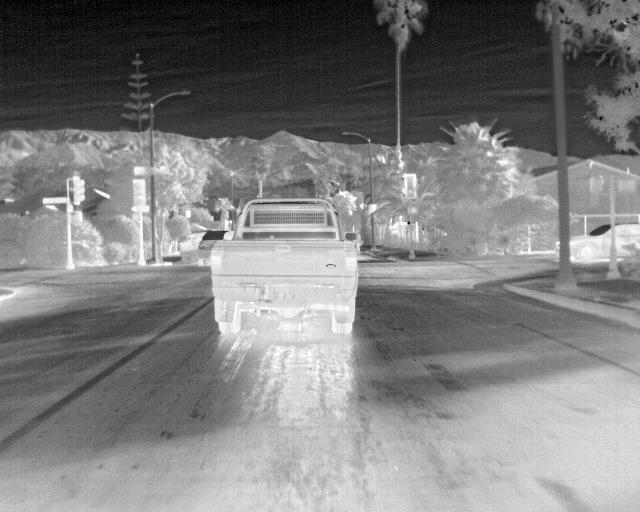car: (211, 197, 358, 335), (555, 222, 639, 261), (199, 230, 229, 265), (180, 232, 206, 264)
light: (618, 176, 635, 194), (135, 181, 145, 206), (590, 175, 602, 194), (76, 179, 85, 201), (407, 177, 415, 197), (75, 211, 83, 223), (408, 206, 417, 214)
sign: (134, 166, 167, 175), (43, 197, 66, 204), (132, 206, 149, 212), (369, 204, 376, 215), (186, 210, 191, 218)
